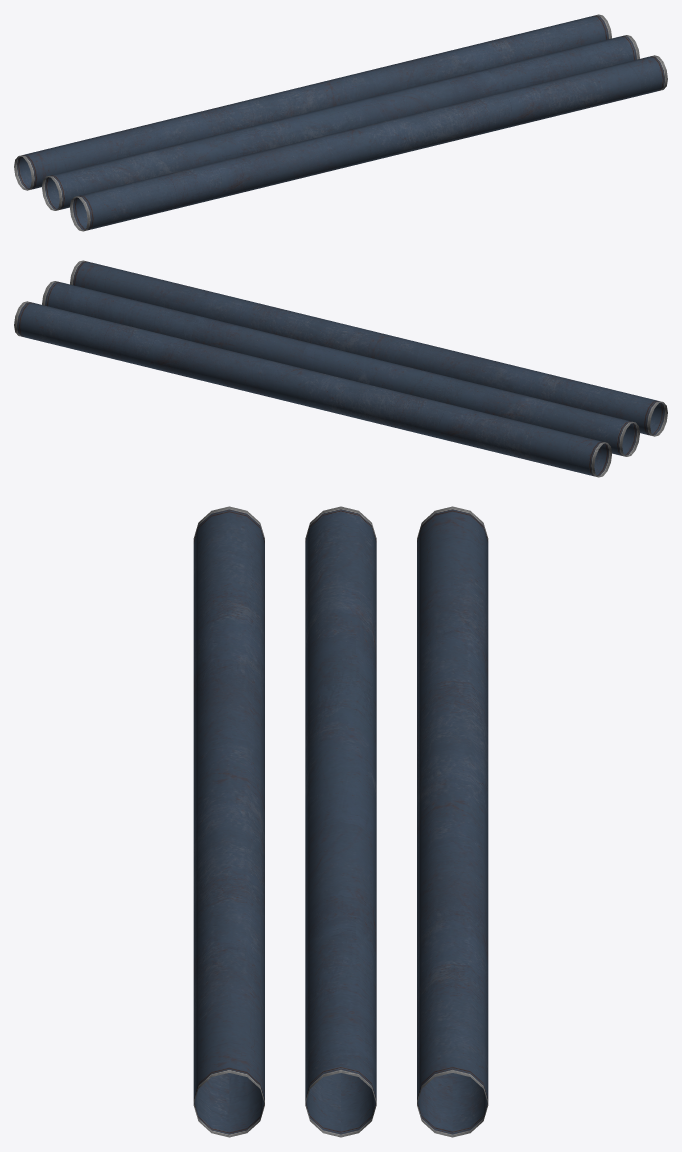
Rendered from Pipe3_A_L0.fbx.
The picture shows the model from 3 angles, top to bottom: view 1: azimuth 30°, elevation 25°; view 2: azimuth 150°, elevation 25°; view 3: azimuth 270°, elevation 25°; orthographic projection. The views are drawn at different scales.
Visible parts, largest first — view 1: PIpe3_A_L0; view 2: PIpe3_A_L0; view 3: PIpe3_A_L0.
Part boxes in pixels (box(x1,y1,x2,y2)): PIpe3_A_L0: box(14, 14, 667, 231); PIpe3_A_L0: box(14, 260, 667, 477); PIpe3_A_L0: box(193, 506, 488, 1137).
Size of the model in its own units: 200 by 10.66 by 43.99.
